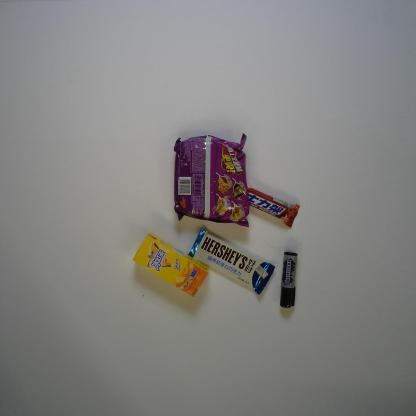Chocolate: (185, 228, 276, 296), (232, 182, 301, 227)
Drink: (131, 232, 210, 298)
Instant Noodles: (172, 132, 250, 228)
Stationery: (278, 251, 298, 308)
